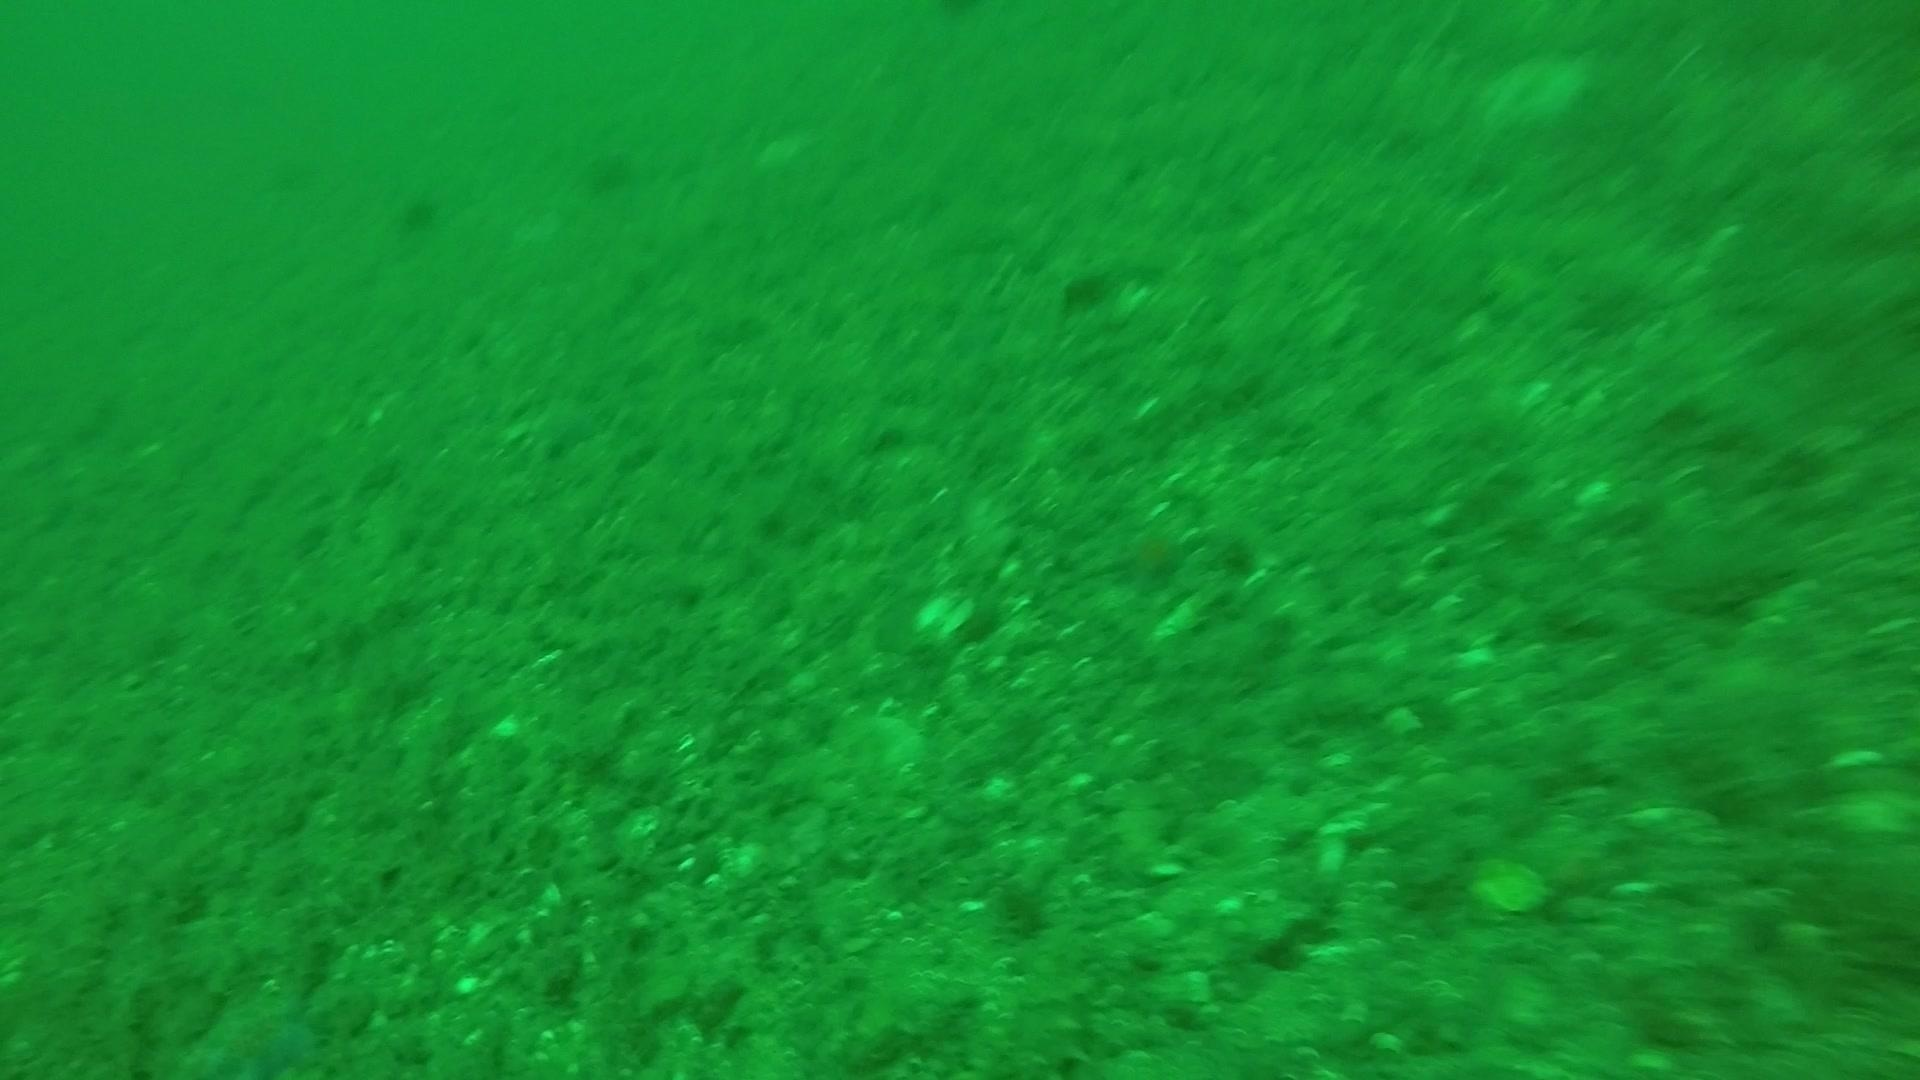echinus: (578, 142, 640, 199), (392, 185, 447, 237)
holothurian: (1007, 920, 1098, 1077)
starfish: (185, 984, 331, 1077), (1104, 506, 1203, 595)
